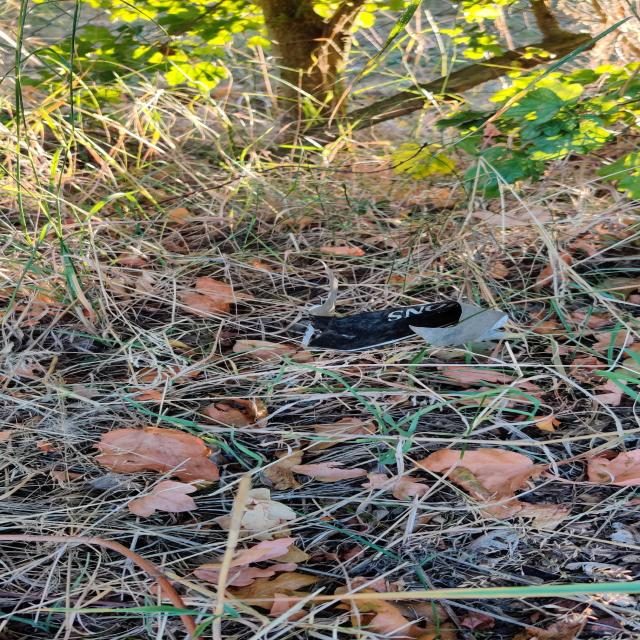litter: (302, 261, 526, 351)
